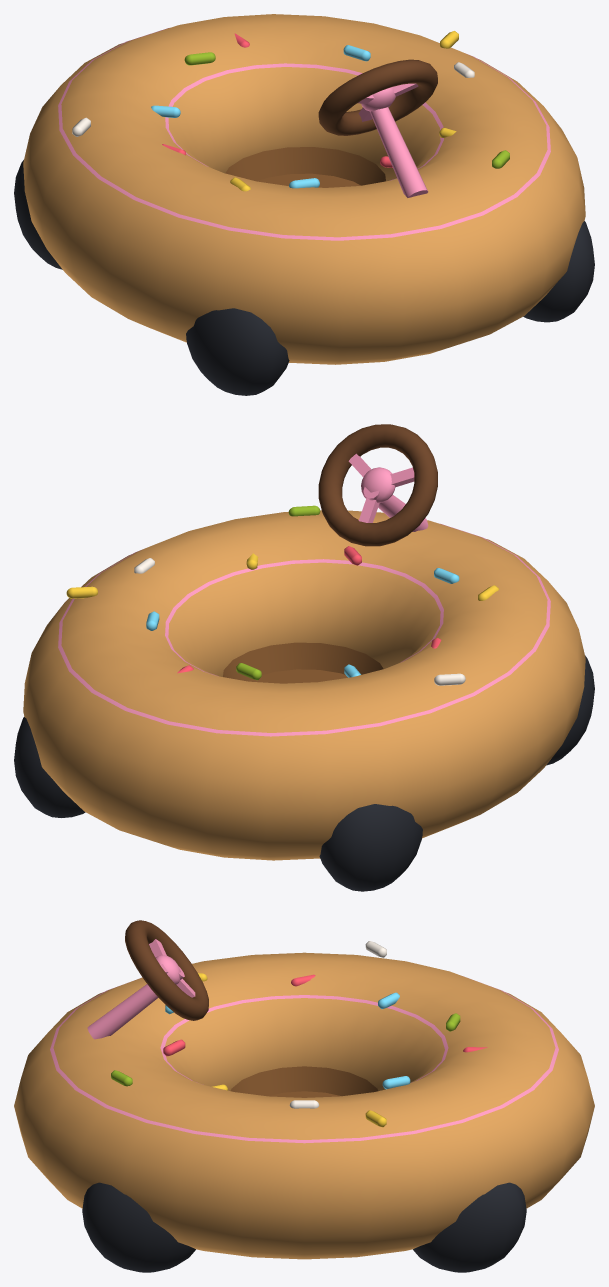
File: kart-donut.glb
3 renders of one model, top to bottom at view 1: azimuth 30°, elevation 25°; view 2: azimuth 150°, elevation 25°; view 3: azimuth 270°, elevation 25°, orthographic. The views are drawn at different scales.
Visible parts, largest first — view 1: kart-donut; view 2: kart-donut; view 3: kart-donut.
Boxes of the visible parts, left/top/right/bottom form: kart-donut: left=14, top=14, right=594, bottom=395; kart-donut: left=14, top=424, right=594, bottom=891; kart-donut: left=14, top=920, right=594, bottom=1272.
Size of the model in its own units: 2.5 by 1.5 by 2.88.
